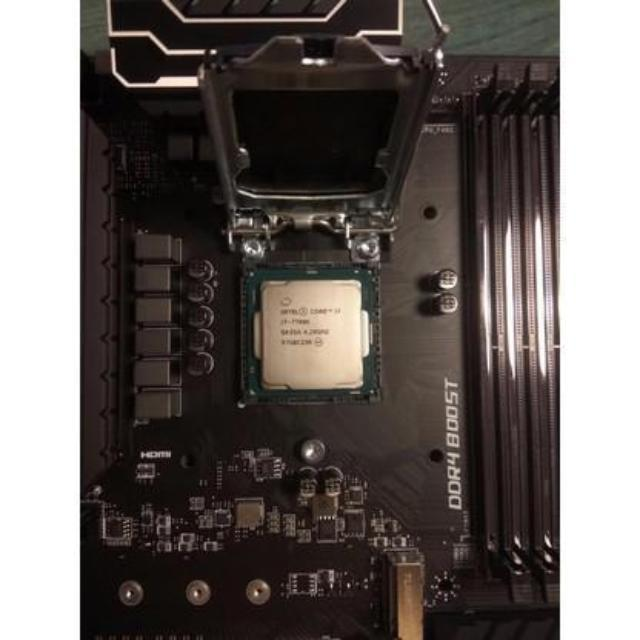CPU: (247, 278, 376, 392)
